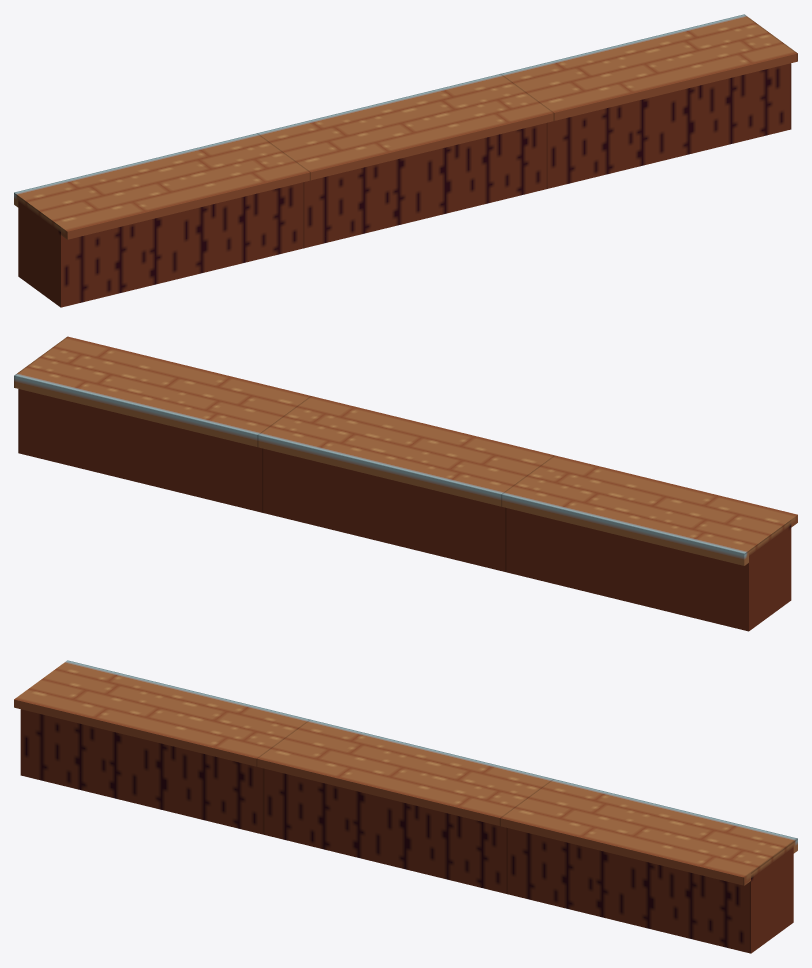
Rendered from desk.glb.
The picture shows the model from 3 angles, top to bottom: view 1: azimuth 30°, elevation 25°; view 2: azimuth 150°, elevation 25°; view 3: azimuth 330°, elevation 25°; orthographic projection.
Parts seen in each view (by area): view 1: desk; view 2: desk; view 3: desk.
Part boxes in pixels (<box>): desk: <box>14,14,797,307</box>; desk: <box>14,336,797,631</box>; desk: <box>14,660,797,953</box>.
Size of the model in its own units: 96 by 10.16 by 12.19.
1 material, 1 textured.
